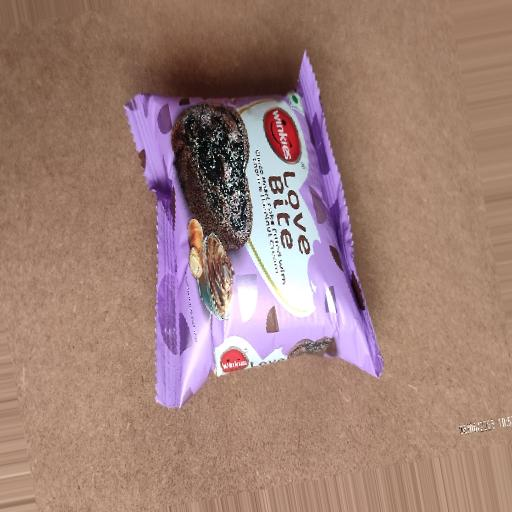Winkies Love Bite cake: (87, 41, 400, 437)
